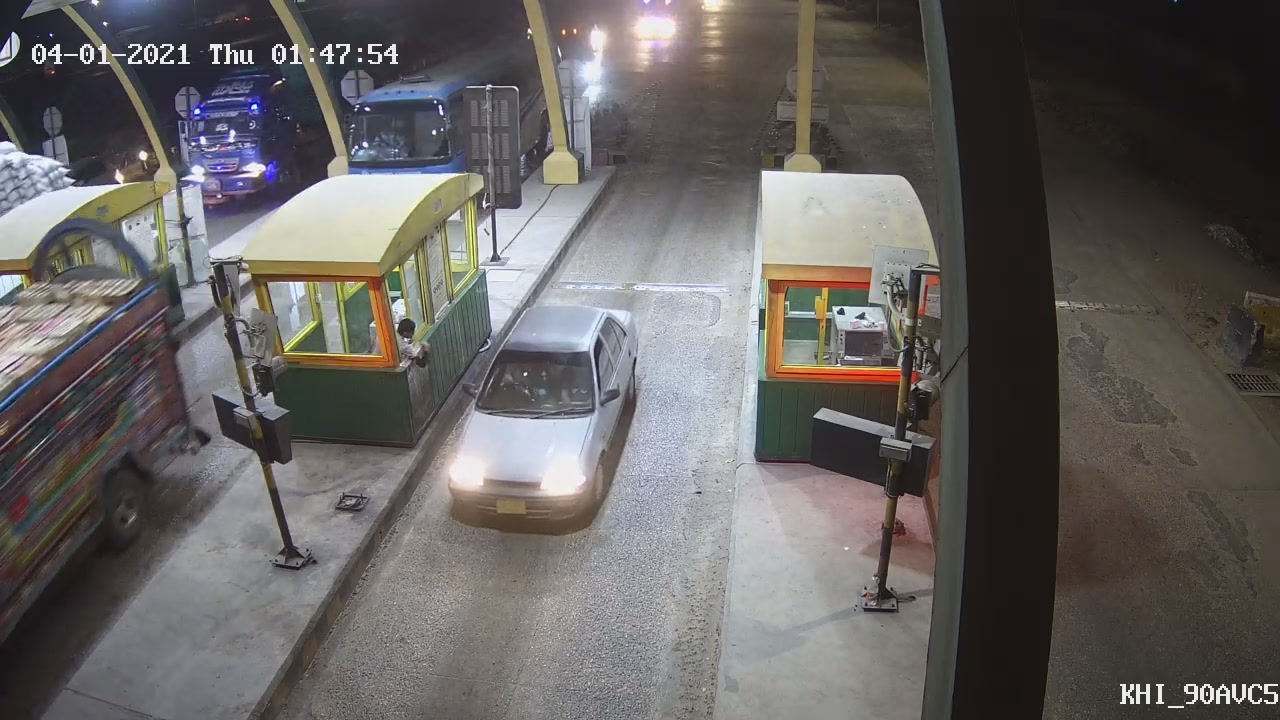F1: (438, 299, 650, 527)
